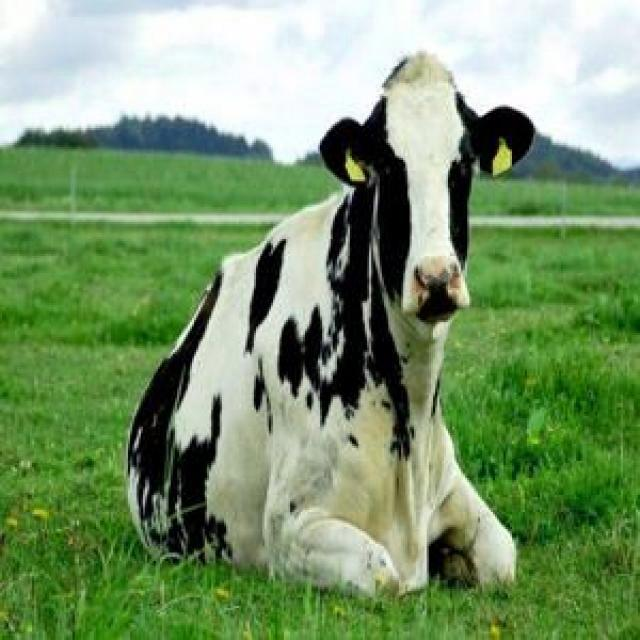cow: (128, 54, 534, 593)
